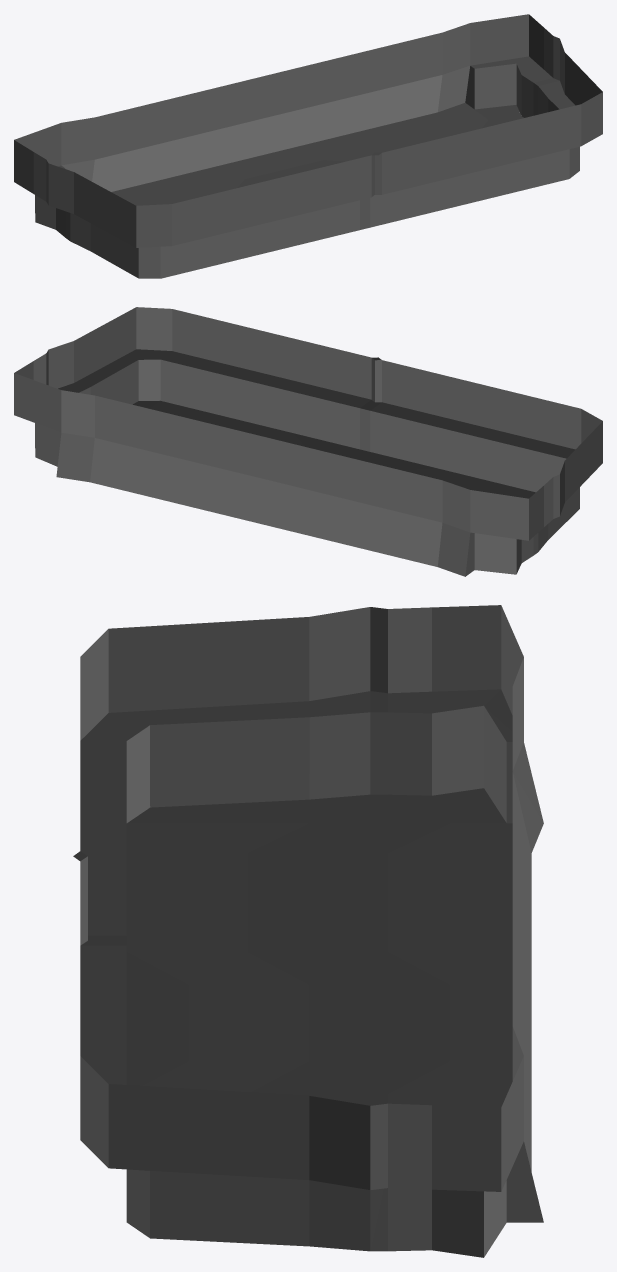
3 views of the same model, one above another, from view 1: azimuth 30°, elevation 25°; view 2: azimuth 150°, elevation 25°; view 3: azimuth 270°, elevation 25° (orthographic). The views are drawn at different scales.
Parts seen in each view (by area): view 1: group_13; view 2: group_13; view 3: group_13.
Part boxes in pixels (<box>): group_13: <box>14,14,602,278</box>; group_13: <box>14,307,602,576</box>; group_13: <box>73,605,543,1257</box>.
Size of the model in its own units: 13454 by 2081 by 5326.
1 material, 1 textured.
